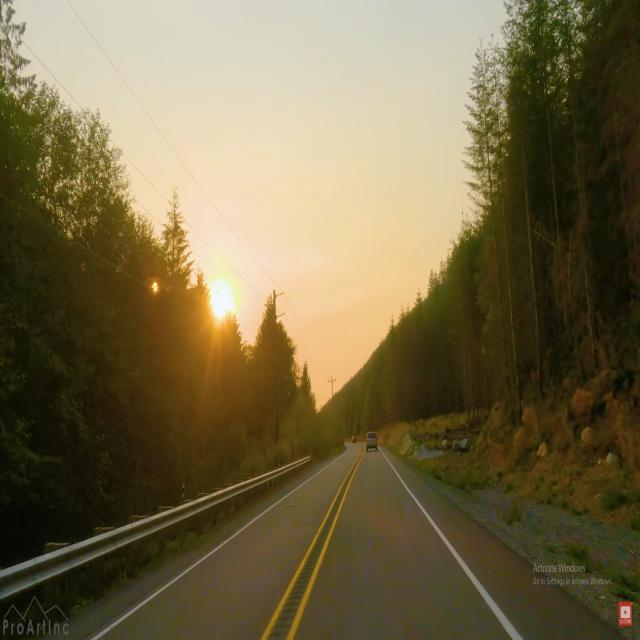sun: (204, 261, 238, 329)
